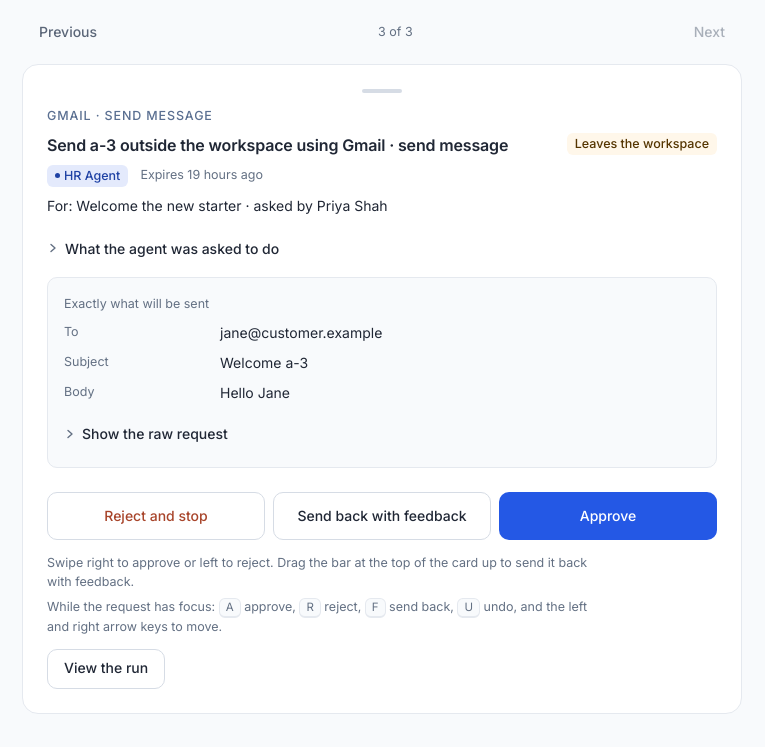
Test: DecideDeck › opens on the card a link names, and moves with the arrow keys and buttons
Press ArrowLeft in the element with class "decide-deck"
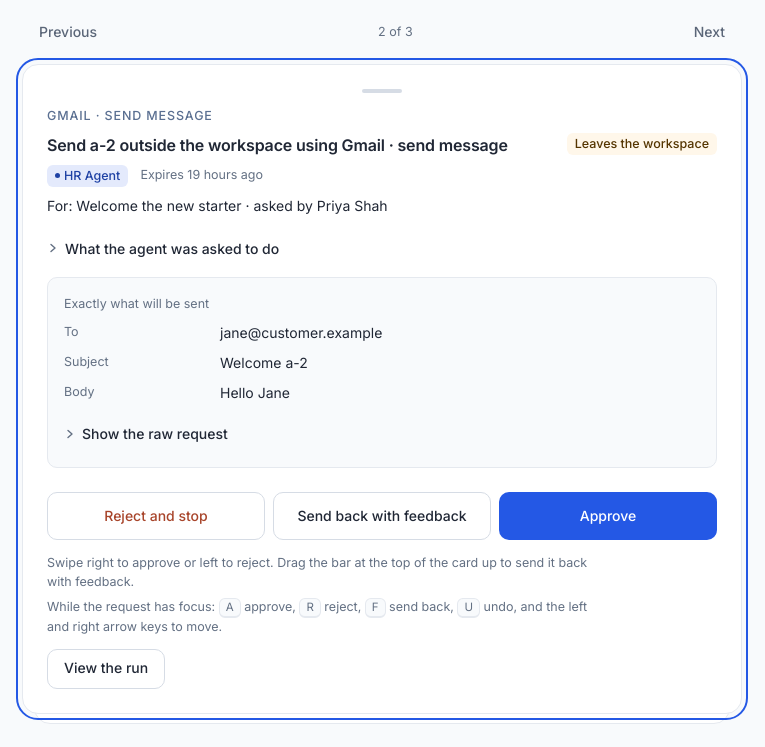
Check: the heading "Send a-2 outside the workspace using Gmail · send message" is shown, box x1=47 y1=132 x2=508 y2=156
Click the button with aria-label "Previous request" at [68, 32], box x1=22 y1=12 x2=114 y2=52
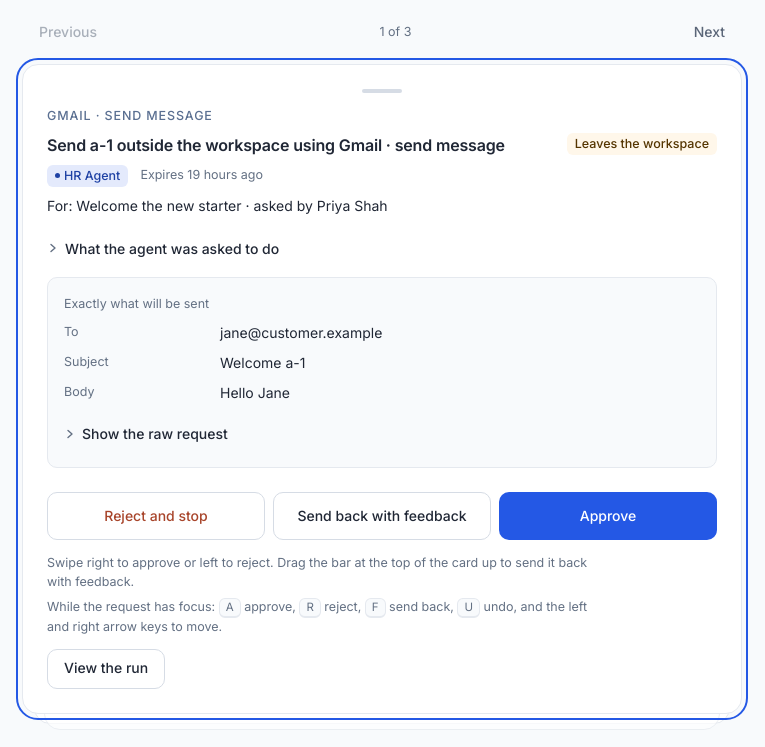
Check: the heading "Send a-1 outside the workspace using Gmail · send message" is shown, box x1=47 y1=132 x2=505 y2=156
Check: the button with aria-label "Previous request" is disabled, box x1=22 y1=12 x2=114 y2=52
